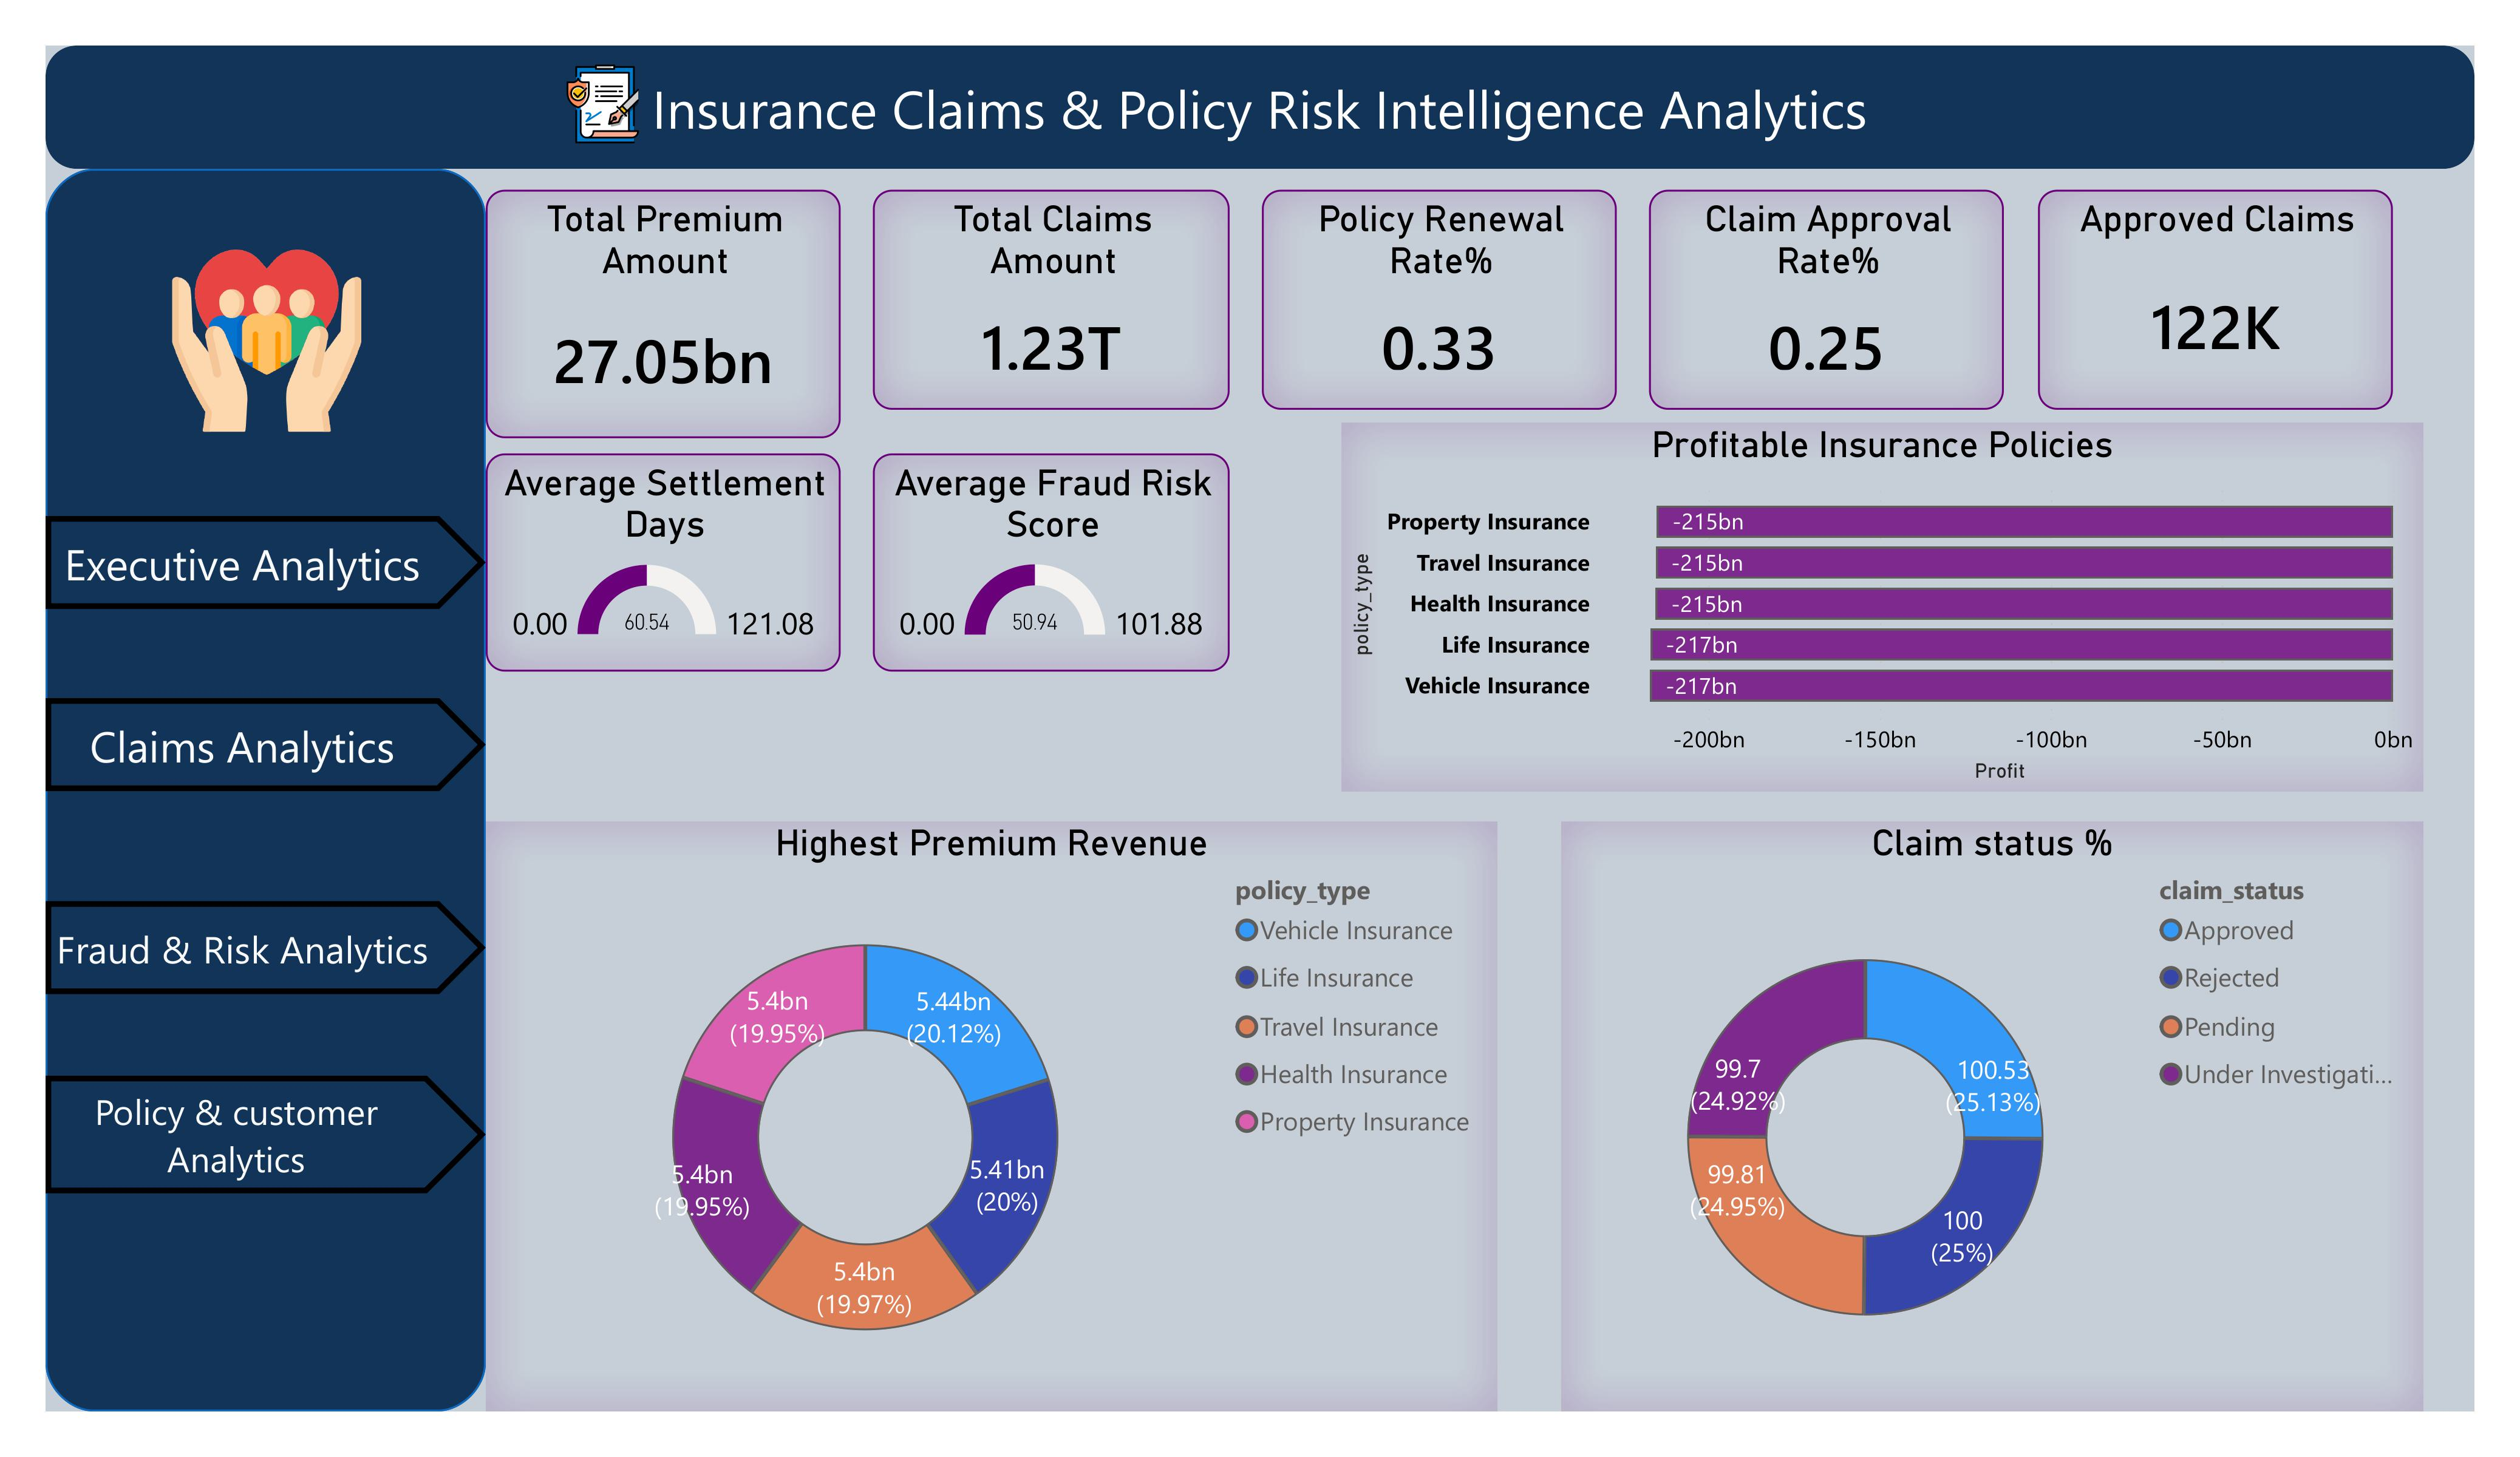

What the dashboard file says about the page in this screenshot:
{"tool":"powerbi","page":{"name":"Executive","canvas":[1280,720],"ordinal":1},"visuals":[{"type":"shape","box":[0,0,1280.2,64.8],"z":0},{"type":"shape","box":[0,64.8,231.8,655.2],"z":1000},{"type":"actionButton","box":[0,247.7,231.8,49],"z":2000},{"type":"actionButton","box":[0,344.2,231.8,49],"z":3000},{"type":"actionButton","box":[0,450.7,231.8,49],"z":4000},{"type":"actionButton","box":[0,542.9,231.8,61.9],"z":5000},{"type":"image","box":[33.1,103.7,167,103.7],"z":6000},{"type":"image","box":[270.7,7.2,47.5,49],"z":7000},{"type":"cardVisual","title":"Total Premium Amount","fields":{"Data":["Measures (3).Total Premium"]},"box":[231.8,76.3,187.2,131],"z":8000},{"type":"cardVisual","title":"Total Claims Amount","fields":{"Data":["Measures (3).Total Claims Amount"]},"box":[436.3,76.3,187.2,115.2],"z":9000},{"type":"cardVisual","title":"Approved Claims","fields":{"Data":["Measures (3).Approved Claims"]},"box":[1049.8,76.3,187.2,115.2],"z":10000},{"type":"gauge","title":"Average Fraud Risk Score","fields":{"Y":["Measures (3).Average Fraud Risk Score"]},"box":[436.3,214.6,187.2,115.2],"z":11000},{"type":"gauge","title":"Average Settlement Days","fields":{"Y":["Measures (3).Average Settlement Days"]},"box":[231.8,214.6,187.2,115.2],"z":12000},{"type":"cardVisual","title":"Claim Approval Rate%","fields":{"Data":["Measures (3).Claim Approval Rate %"]},"box":[845.3,76.3,187.2,115.2],"z":13000},{"type":"cardVisual","title":"Policy Renewal Rate%","fields":{"Data":["Measures (3).Policy Renewal Rate %"]},"box":[640.8,76.3,187.2,115.2],"z":14000},{"type":"donutChart","title":"Highest Premium Revenue","fields":{"Category":["dim_policy.policy_type"],"Y":["Measures (3).Total Premium"]},"box":[231.8,409,532.8,311],"z":15000},{"type":"donutChart","title":"Claim status %","fields":{"Category":["dim_claim_status.claim_status"],"Y":["Measures (3).Rejection Percentage %"]},"box":[799.2,409,453.6,311],"z":16000},{"type":"barChart","title":"Profitable Insurance Policies","fields":{"Y":["Measures (3).Profit"],"Category":["dim_policy.policy_type"]},"box":[682.6,198.7,570.2,194.4],"z":17000}]}

Visuals, with their boxes on the page's 1280x720 design canvas (x1, y1, x2, y2). These are canvas units, not pixel positions in the 2520x1457 screenshot, which may show the page scaled, cropped or inside an application window:
shape: region(0, 0, 1280, 65)
shape: region(0, 65, 232, 720)
actionButton: region(0, 248, 232, 297)
actionButton: region(0, 344, 232, 393)
actionButton: region(0, 451, 232, 500)
actionButton: region(0, 543, 232, 605)
image: region(33, 104, 200, 207)
image: region(271, 7, 318, 56)
"Total Premium Amount" cardVisual: region(232, 76, 419, 207)
"Total Claims Amount" cardVisual: region(436, 76, 624, 192)
"Approved Claims" cardVisual: region(1050, 76, 1237, 192)
"Average Fraud Risk Score" gauge: region(436, 215, 624, 330)
"Average Settlement Days" gauge: region(232, 215, 419, 330)
"Claim Approval Rate%" cardVisual: region(845, 76, 1032, 192)
"Policy Renewal Rate%" cardVisual: region(641, 76, 828, 192)
"Highest Premium Revenue" donutChart: region(232, 409, 765, 720)
"Claim status %" donutChart: region(799, 409, 1253, 720)
"Profitable Insurance Policies" barChart: region(683, 199, 1253, 393)
